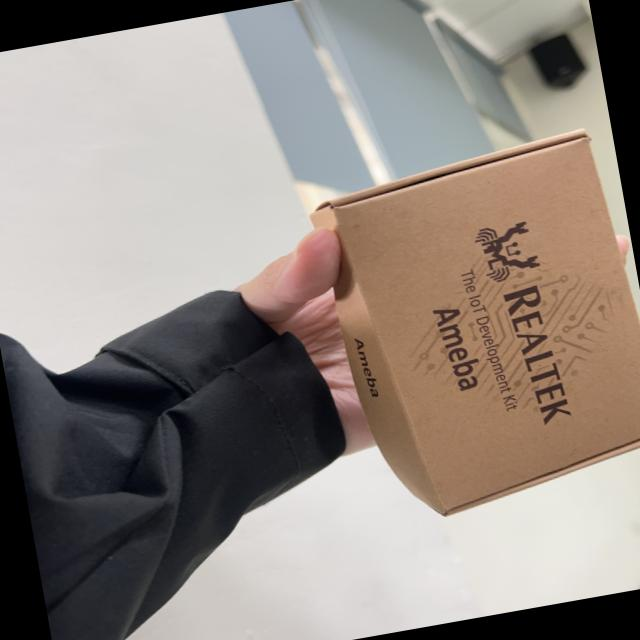box: (302, 128, 640, 538)
